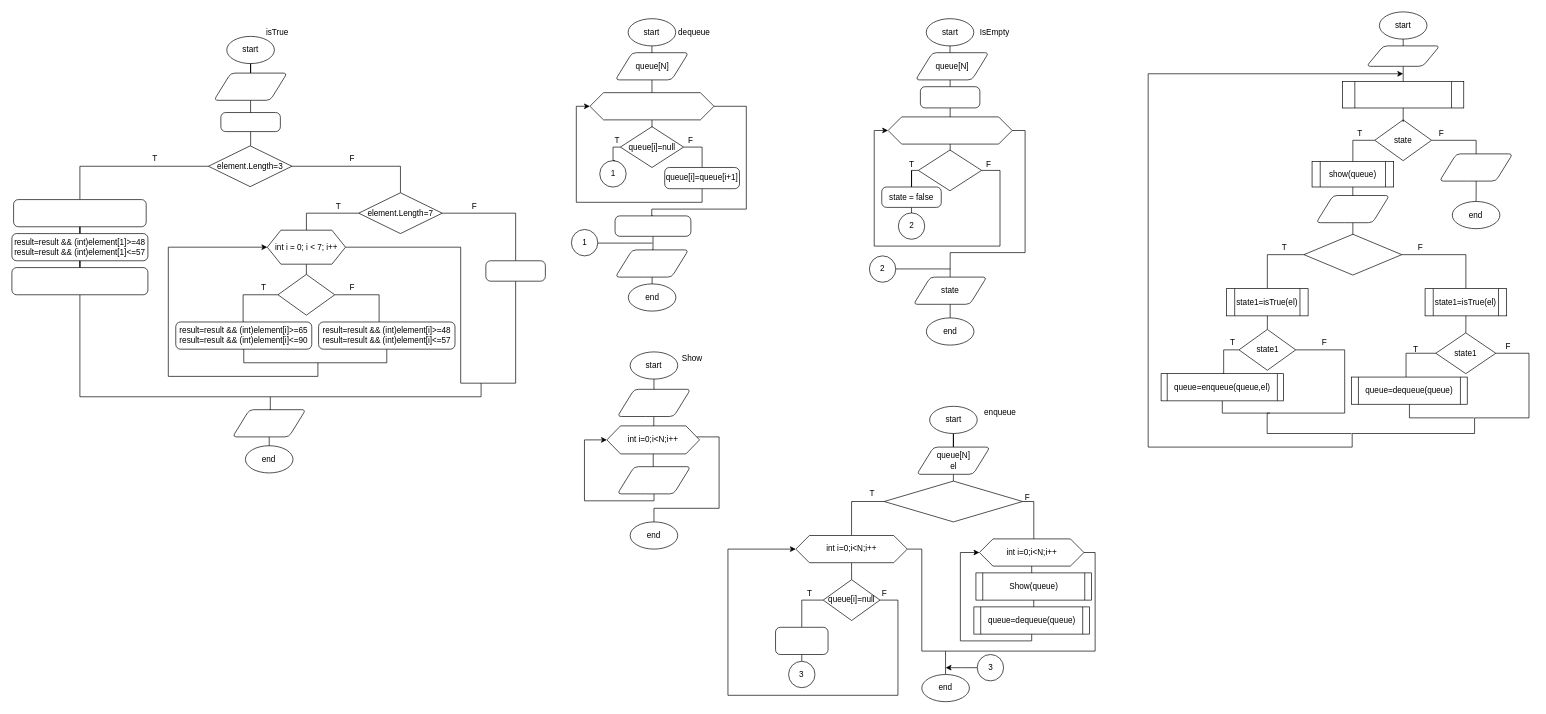
The diagram is 1546 pixels wide and 714 high, and some of its shapes have lost their labels. Each missing label, with the centre of its shape:
el: the point at 1352,209
el.Length=7: the point at 1352,254
element: the point at 250,86
i mod 3=0: the point at 306,294
int i =0; i<N-1; i++: the point at 651,106
int i =0; i<N; i++: the point at 949,130
queue: the point at 1403,55
queue[]: the point at 651,263
queue[i]: the point at 654,480
queue[i]!=null: the point at 950,170
queue[i]= el: the point at 801,640
queue[N-1]!=null: the point at 953,501
queue[N-1]=null: the point at 652,225
queue[N];: the point at 654,403
result: the point at 269,423
result = true: the point at 250,122
result=false: the point at 515,270
result=result && (int)element[0]>=65 result=result && (int)element[0]<=90: the point at 79,213
result=result && (int)element[2]>=65 result=result && (int)element[2]<=90: the point at 79,281
state = true: the point at 950,97
state=queue.isEmpty(): the point at 1403,94
Кінець: the point at 1476,167
